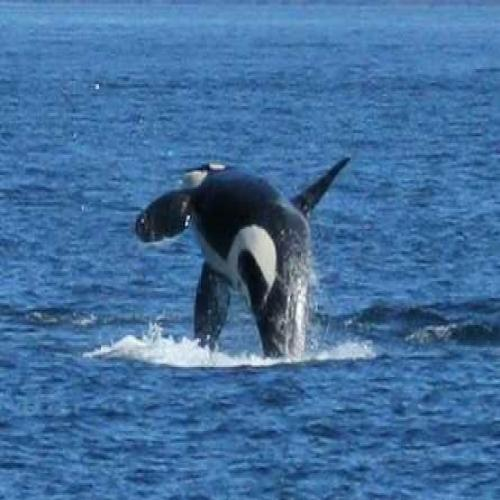killer_whale-endangered: (119, 126, 374, 378)
